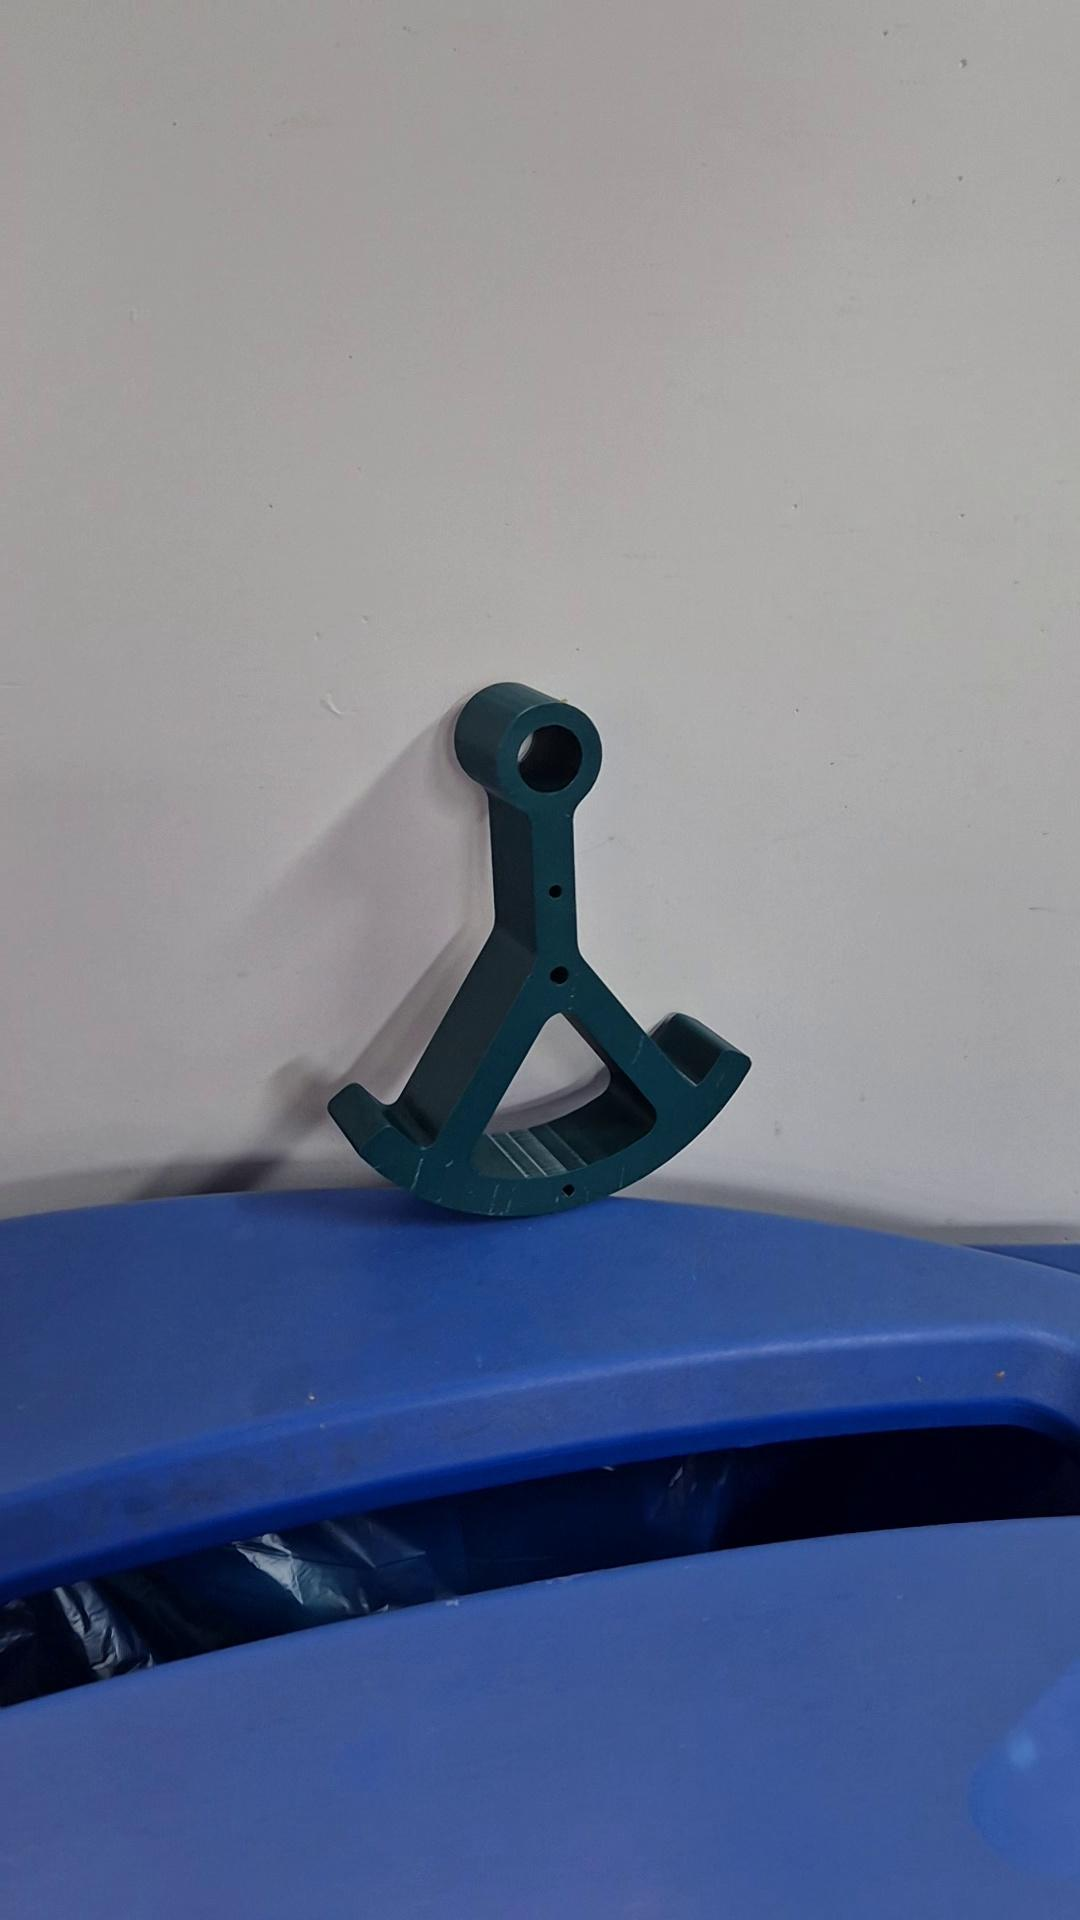Paddles: (323, 676, 754, 1222)
